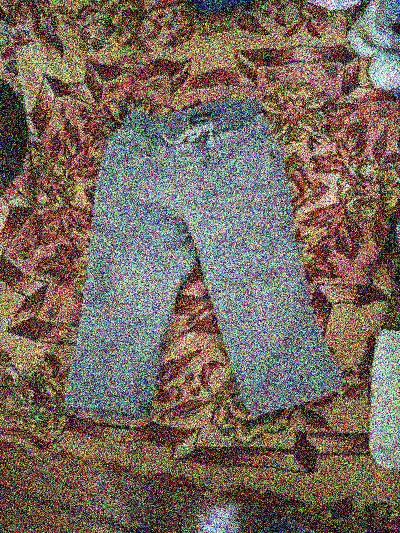Pants: (59, 81, 330, 411)
